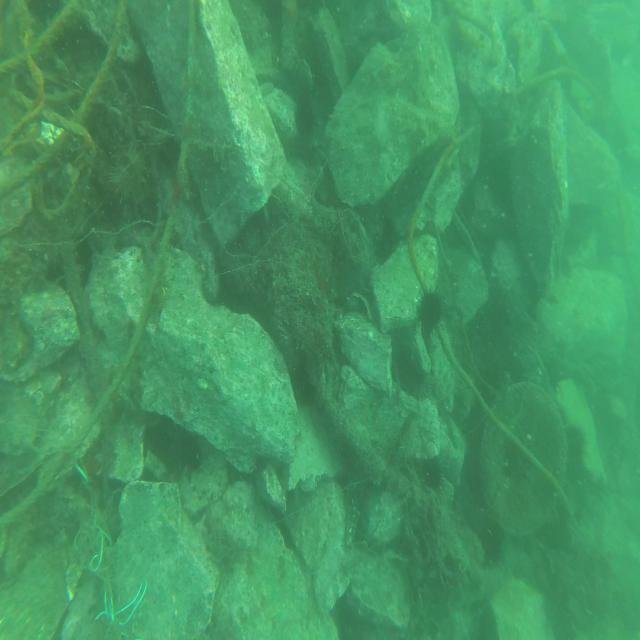echinus: (108, 142, 148, 205), (290, 88, 318, 144), (414, 286, 444, 338), (418, 450, 445, 495)
